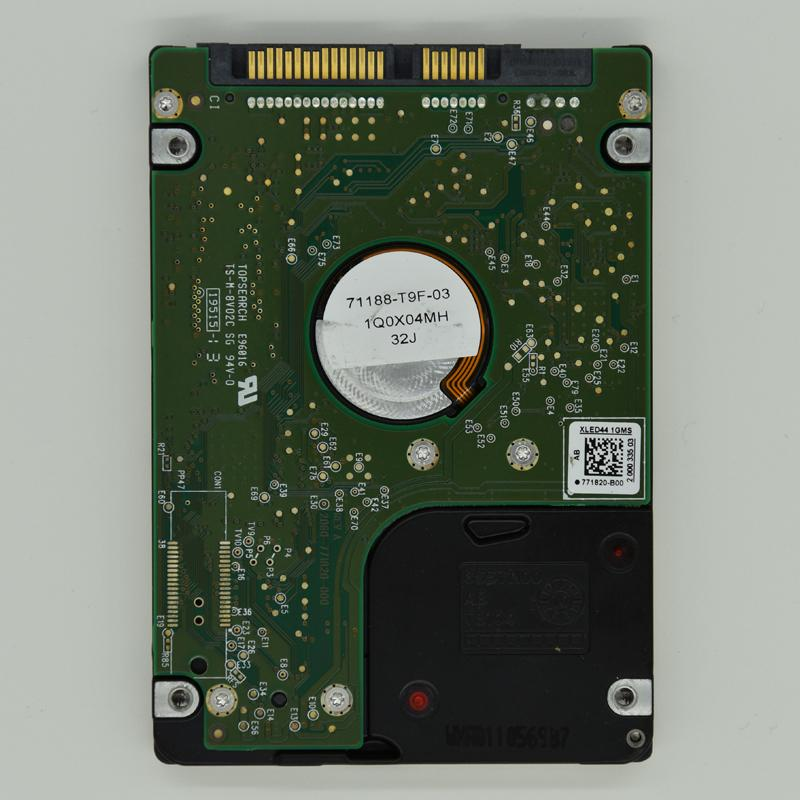internal HDD: (149, 42, 658, 771)
